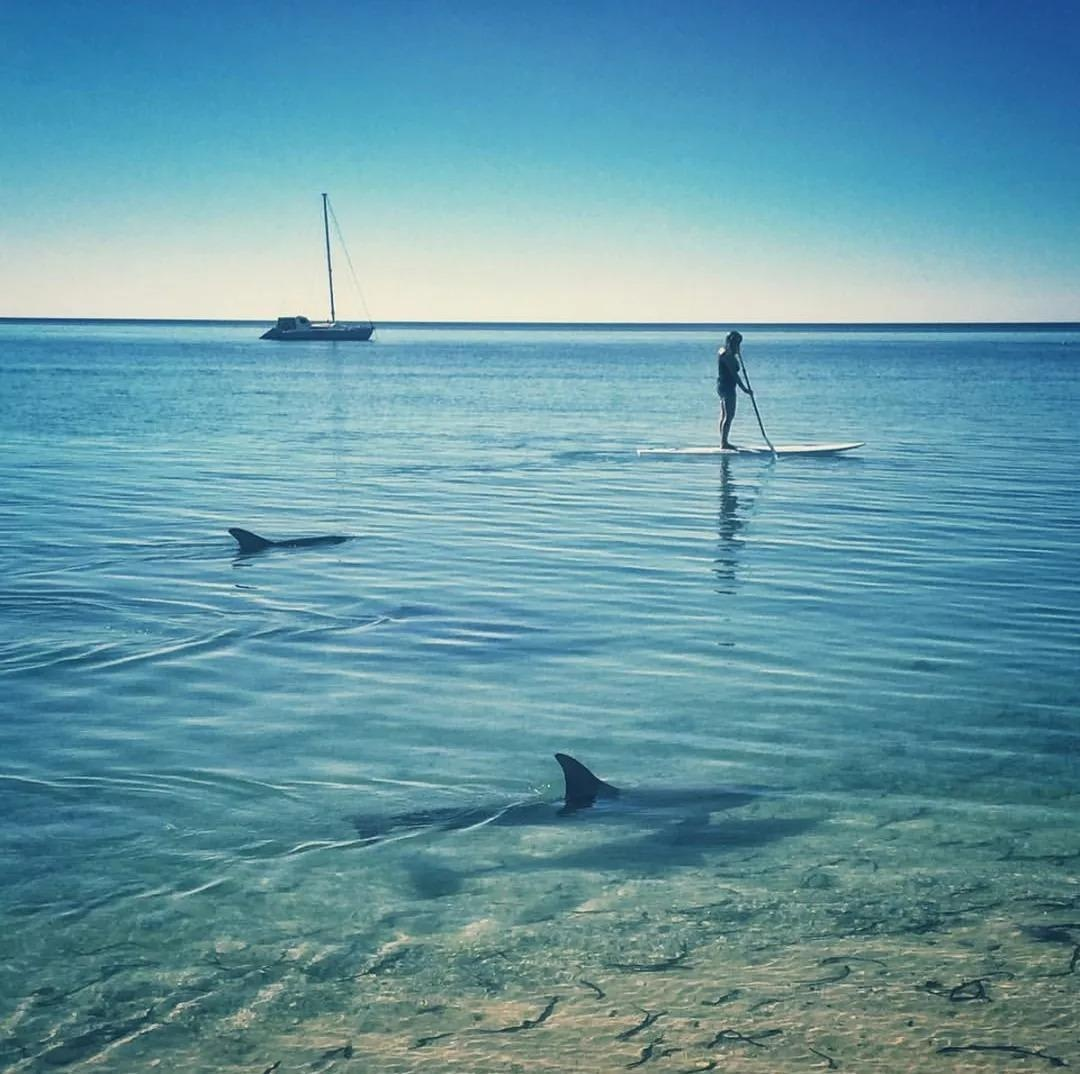fish: (343, 753, 773, 848)
person: (710, 317, 786, 455)
